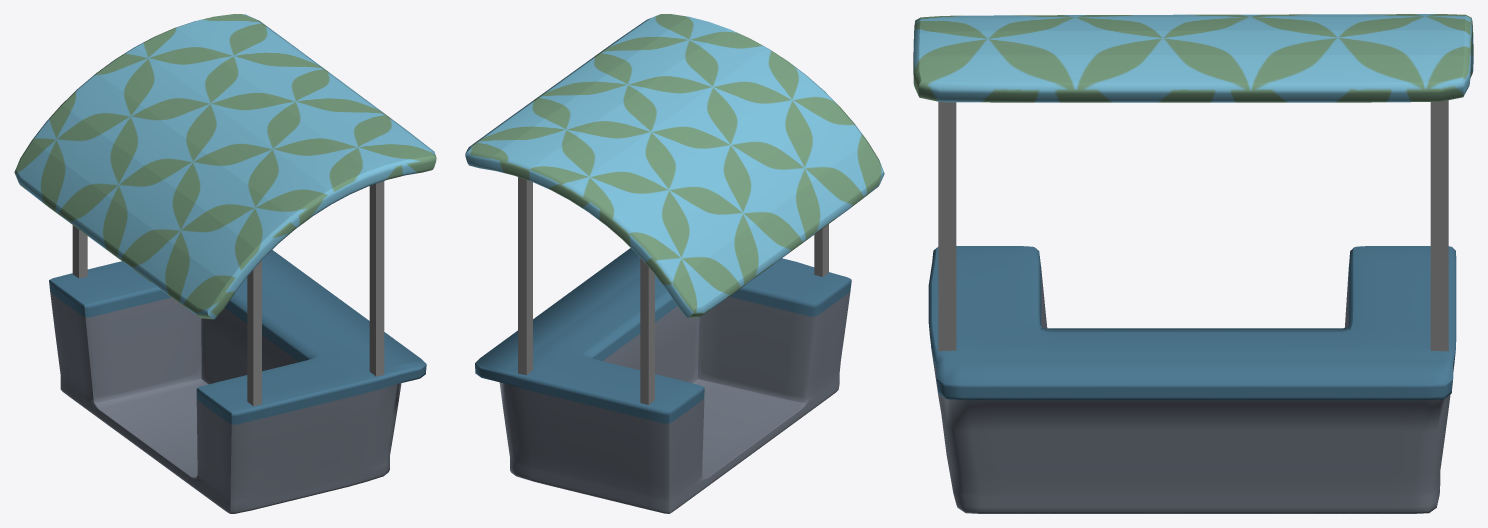
Rendered from Booth 1-2.fbx.
3 views of the same model, side by side, from view 1: azimuth 30°, elevation 25°; view 2: azimuth 150°, elevation 25°; view 3: azimuth 270°, elevation 25° (orthographic). The views are drawn at different scales.
Parts seen in each view (by area): view 1: Cube.005, Cube.009, Cube.007; view 2: Cube.005, Cube.009, Cube.007; view 3: Cube.009, Cube.005, Cube.007.
Part boxes in pixels (x1=…): Cube.005: x1=14, y1=14, x2=436, y2=319; Cube.009: x1=49, y1=250, x2=426, y2=513; Cube.007: x1=72, y1=181, x2=384, y2=406; Cube.005: x1=465, y1=14, x2=884, y2=317; Cube.009: x1=475, y1=248, x2=851, y2=513; Cube.007: x1=518, y1=177, x2=828, y2=404; Cube.009: x1=928, y1=246, x2=1456, y2=513; Cube.005: x1=913, y1=14, x2=1473, y2=102; Cube.007: x1=938, y1=100, x2=1448, y2=351.
Size of the model in its own units: 1187 by 1556 by 1708.
1 material, 1 textured.
